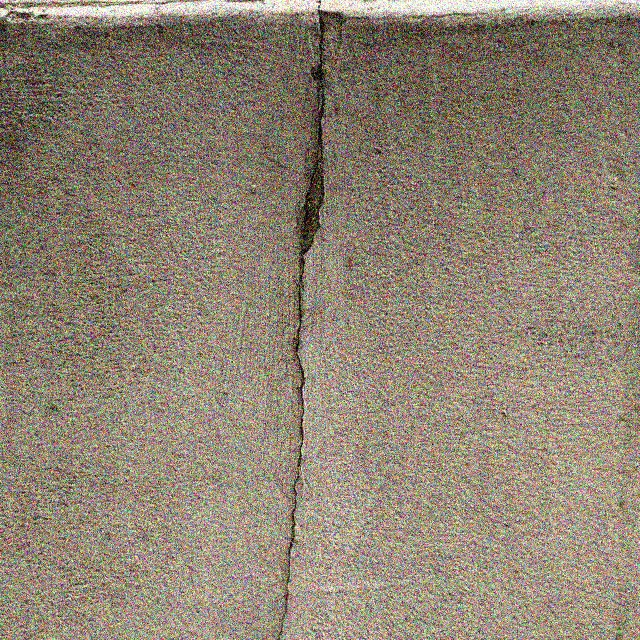SurfaceCrack: (230, 5, 379, 640)
